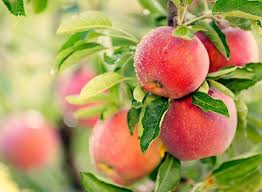apple: (163, 92, 241, 165), (90, 109, 165, 183), (137, 27, 211, 94), (197, 25, 262, 79)
